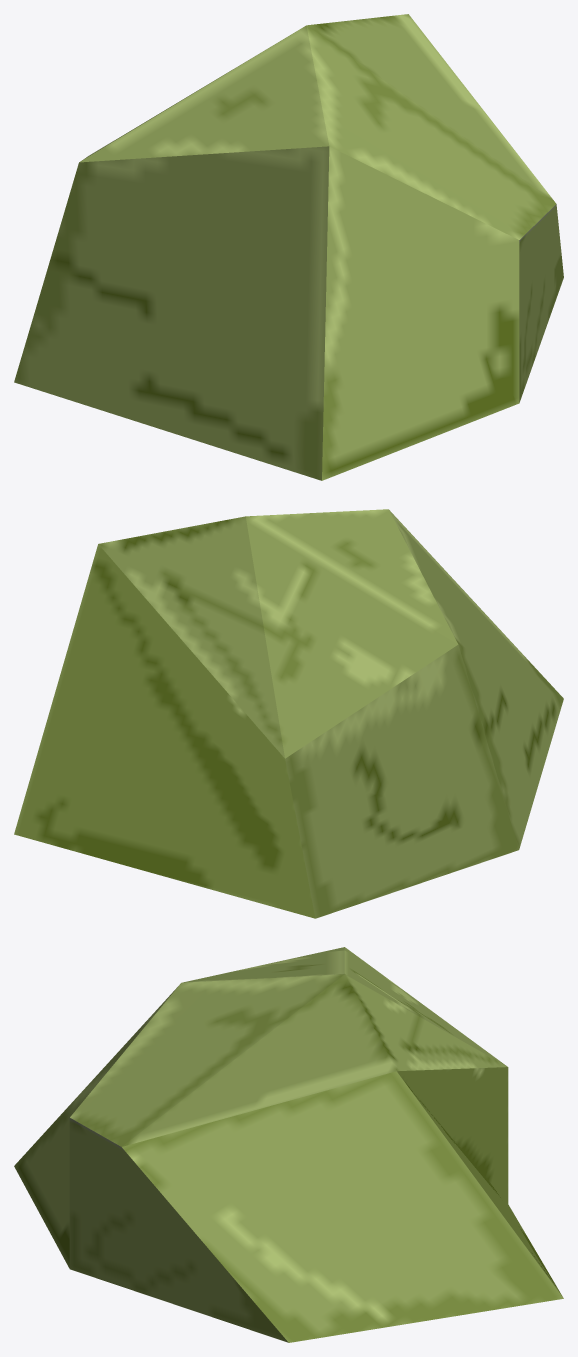
Rendered from preda.fbx.
3 views of the same model, one above another, from view 1: azimuth 30°, elevation 25°; view 2: azimuth 150°, elevation 25°; view 3: azimuth 270°, elevation 25° (orthographic). The views are drawn at different scales.
Visible parts, largest first — view 1: sphere; view 2: sphere; view 3: sphere.
Part boxes in pixels (x1,y1,x2,y2): sphere: (14, 14, 563, 480); sphere: (14, 509, 563, 918); sphere: (14, 947, 563, 1342).
Bounding box in the file's own units: 62.5 × 37.5 × 61.6.
